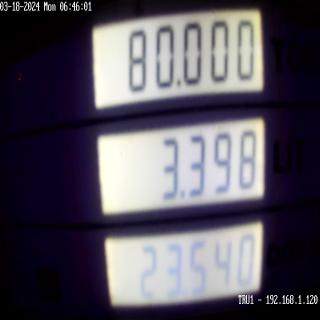screen: (82, 0, 273, 320)
